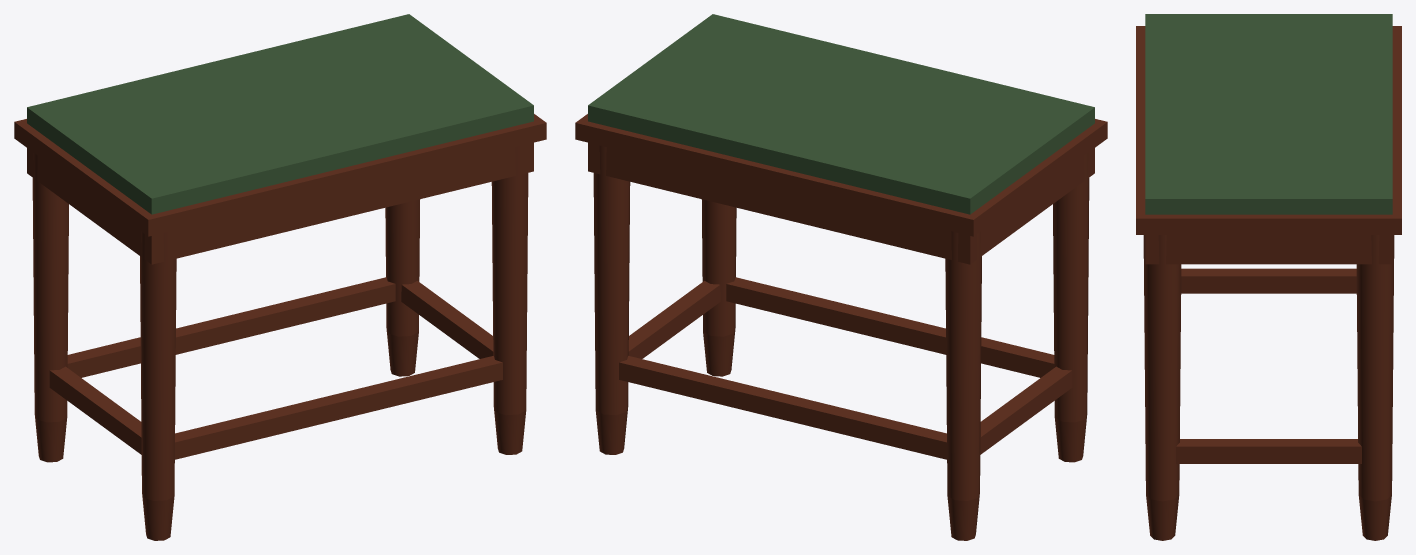
Rendered from parametric-piano-stool-1st.glb.
3 renders of one model, left to right at view 1: azimuth 30°, elevation 25°; view 2: azimuth 150°, elevation 25°; view 3: azimuth 270°, elevation 25°, orthographic.
Visible parts, largest first — view 1: parametric-piano-stool-1st; view 2: parametric-piano-stool-1st; view 3: parametric-piano-stool-1st.
Part boxes in pixels (x1=…): parametric-piano-stool-1st: x1=14, y1=14, x2=546, y2=540; parametric-piano-stool-1st: x1=575, y1=14, x2=1107, y2=540; parametric-piano-stool-1st: x1=1136, y1=14, x2=1401, y2=540.
Size of the model in its own units: 0.6 by 0.5 by 0.35.
